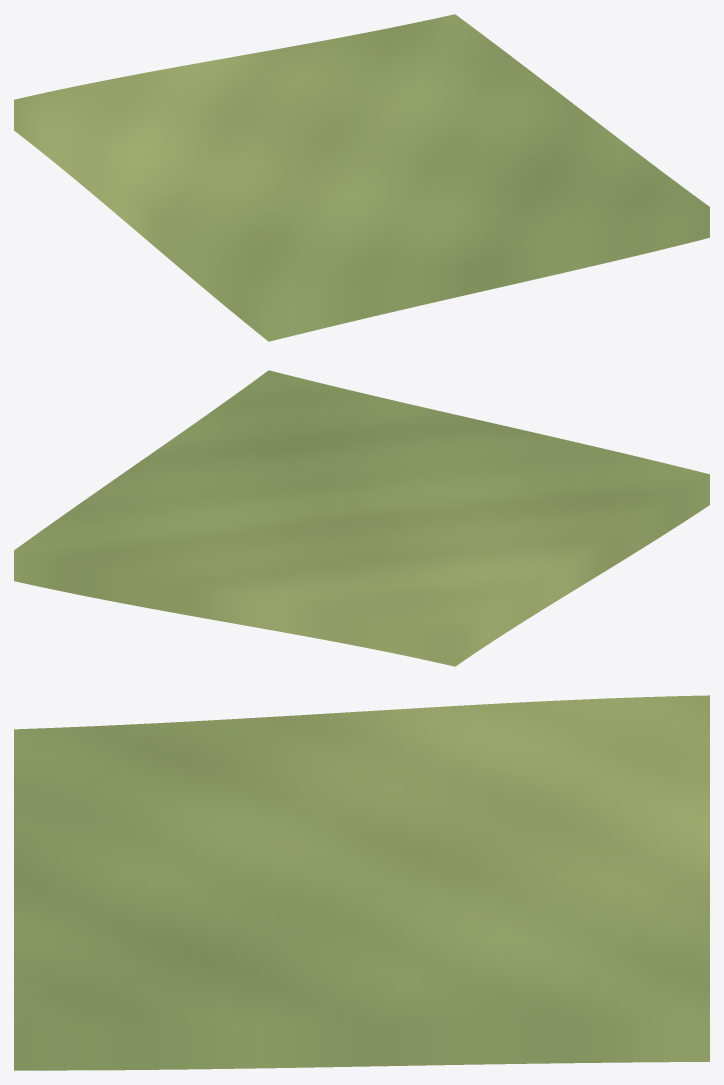
3 views of the same model, one above another, from view 1: azimuth 30°, elevation 25°; view 2: azimuth 150°, elevation 25°; view 3: azimuth 270°, elevation 25° (orthographic). The views are drawn at different scales.
Visible parts, largest first — view 1: terrain; view 2: terrain; view 3: terrain.
Part boxes in pixels (x1,y1,x2,y2): terrain: (14, 14, 709, 341); terrain: (14, 370, 709, 666); terrain: (14, 695, 709, 1070).
Size of the model in its own units: 30 by 3.86 by 30.
